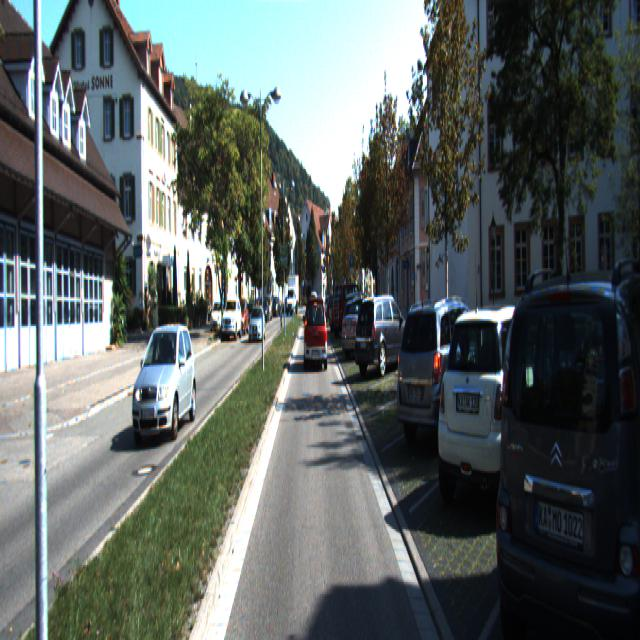Car: (490, 263, 640, 638), (434, 300, 557, 543), (393, 303, 498, 462), (133, 322, 198, 443), (354, 294, 414, 378), (341, 297, 386, 358), (330, 286, 366, 340), (305, 300, 328, 374), (222, 298, 242, 340), (249, 306, 266, 343), (233, 300, 249, 336), (210, 300, 223, 333), (258, 300, 270, 324)
